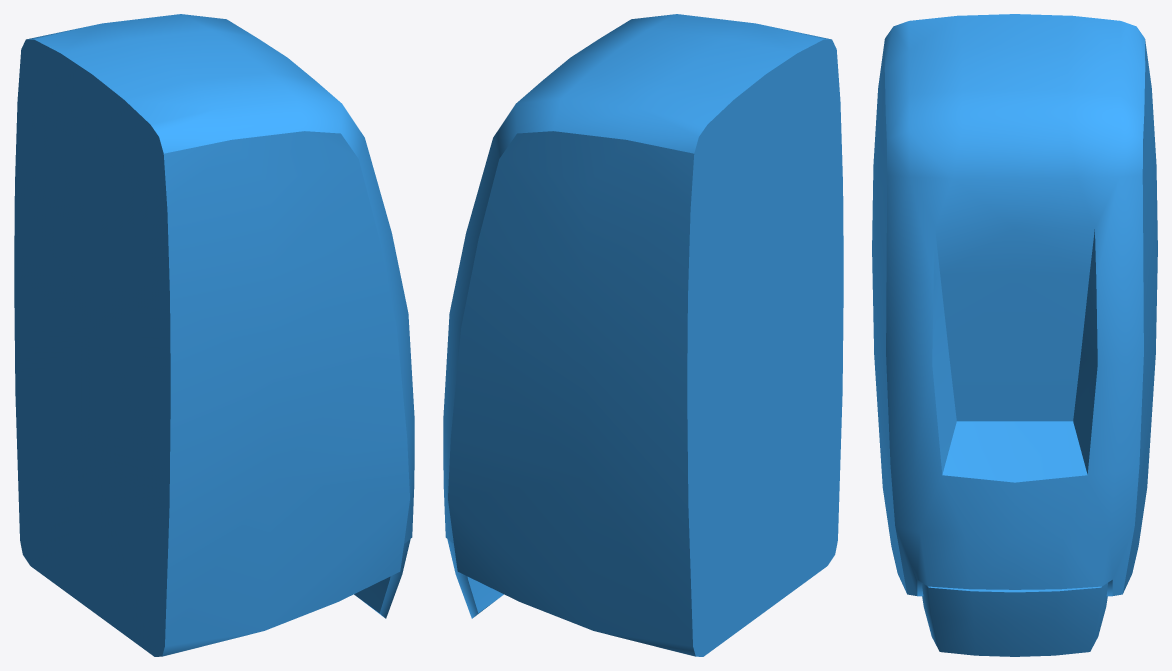
Rendered from SM_SoapDispenser_01a.FBX.
3 views of the same model, side by side, from view 1: azimuth 30°, elevation 25°; view 2: azimuth 150°, elevation 25°; view 3: azimuth 270°, elevation 25° (orthographic). The views are drawn at different scales.
Parts seen in each view (by area): view 1: SM_SoapDispenser_01a_LOD0; view 2: SM_SoapDispenser_01a_LOD0; view 3: SM_SoapDispenser_01a_LOD0.
Part boxes in pixels (left/top/right/bottom): SM_SoapDispenser_01a_LOD0: left=14, top=14, right=414, bottom=656; SM_SoapDispenser_01a_LOD0: left=443, top=14, right=843, bottom=656; SM_SoapDispenser_01a_LOD0: left=872, top=14, right=1157, bottom=656.
Size of what is drawn, in the model's own units: 13.14 by 25.73 by 12.65.
